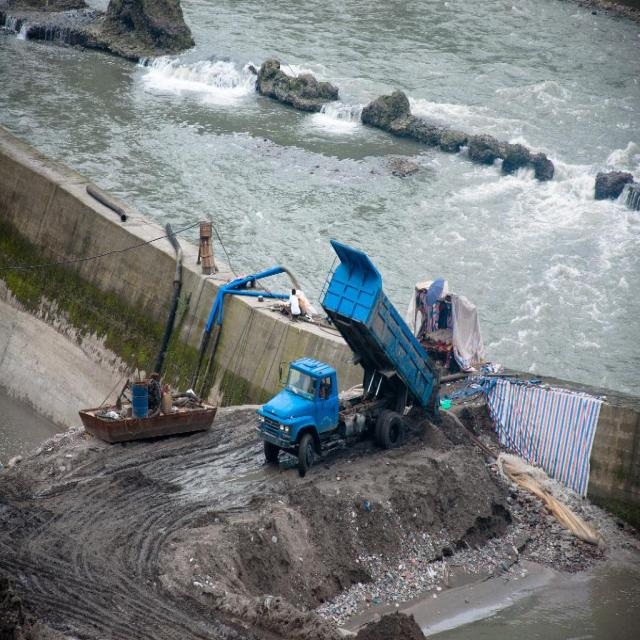Heavy Duty Truck: (254, 315, 437, 486)
